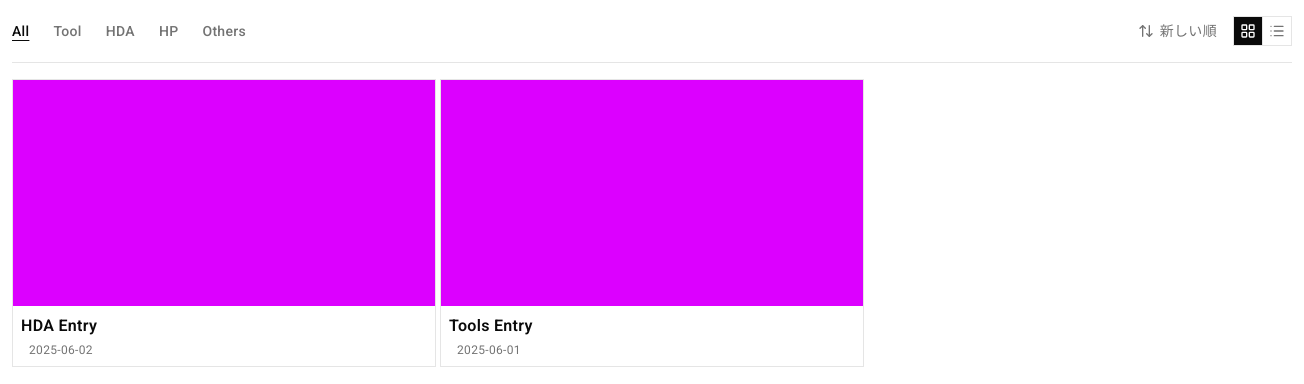
Test: CategoryFilter › shows the sort button in grid view too, and clicking it reverses the order
Click the button "新しい順" at (1177, 31), box [1138,21,1217,41]
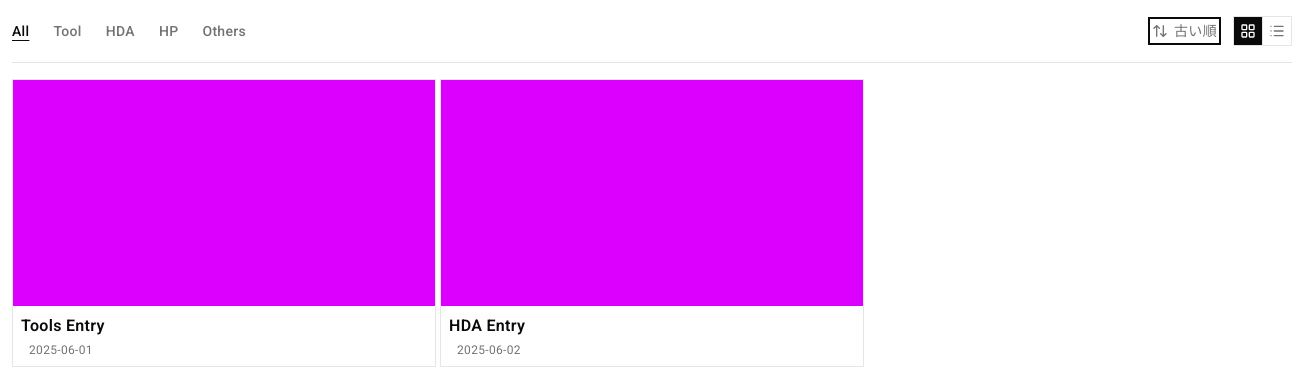
expect the button "古い順" is shown: met, box [1152,21,1217,41]
